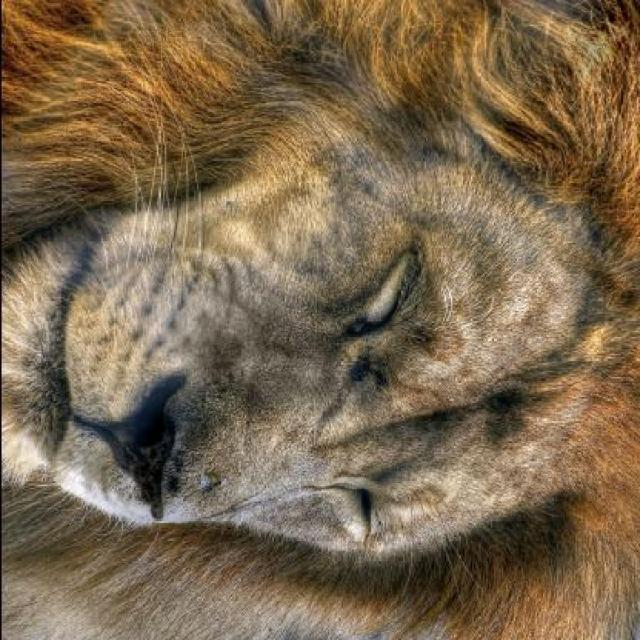Lion: (2, 27, 626, 596)
